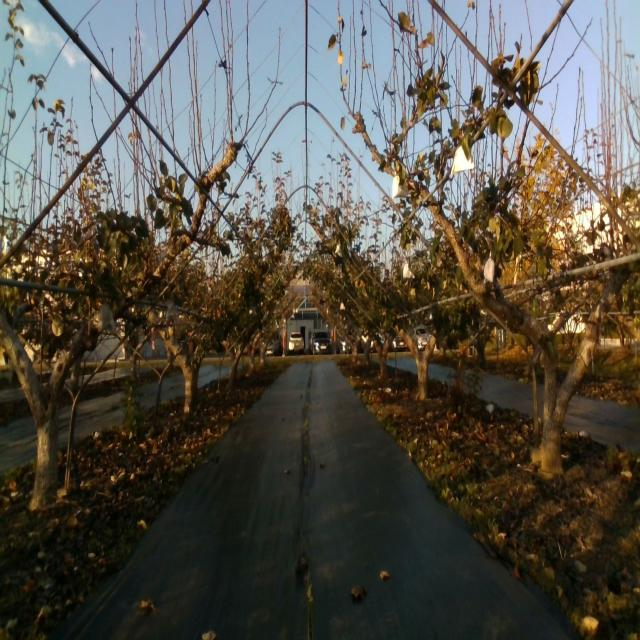pearbags: (452, 145, 474, 173), (98, 303, 116, 332), (392, 175, 408, 198), (484, 257, 496, 283), (166, 300, 178, 323), (403, 261, 415, 279)
